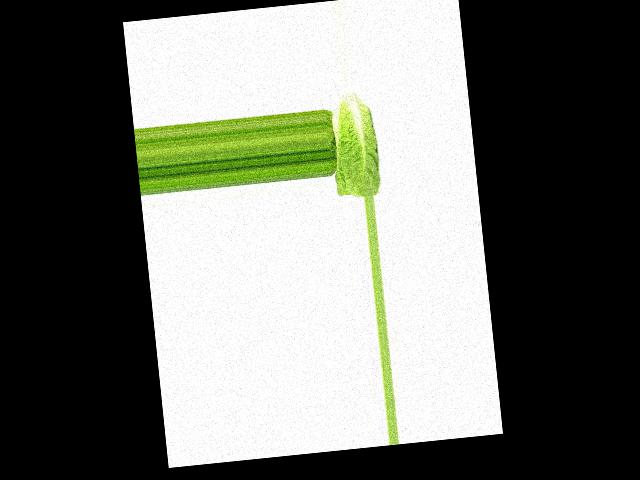lettuce: (328, 90, 389, 200)
